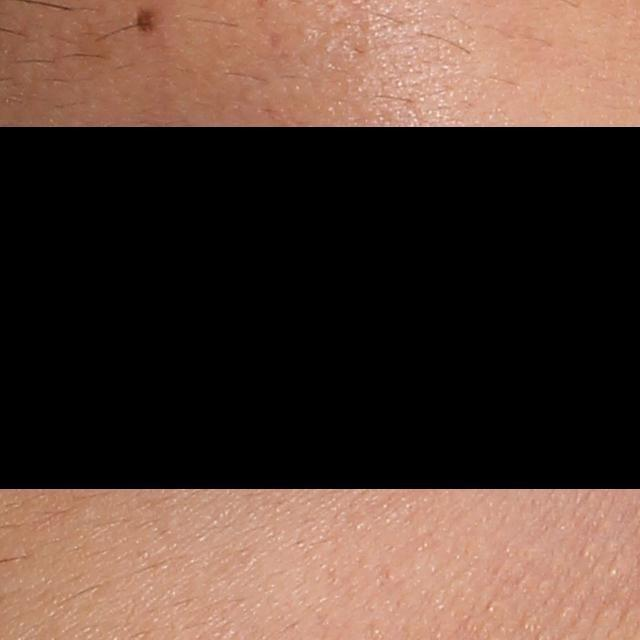nevus: (131, 4, 156, 37)
